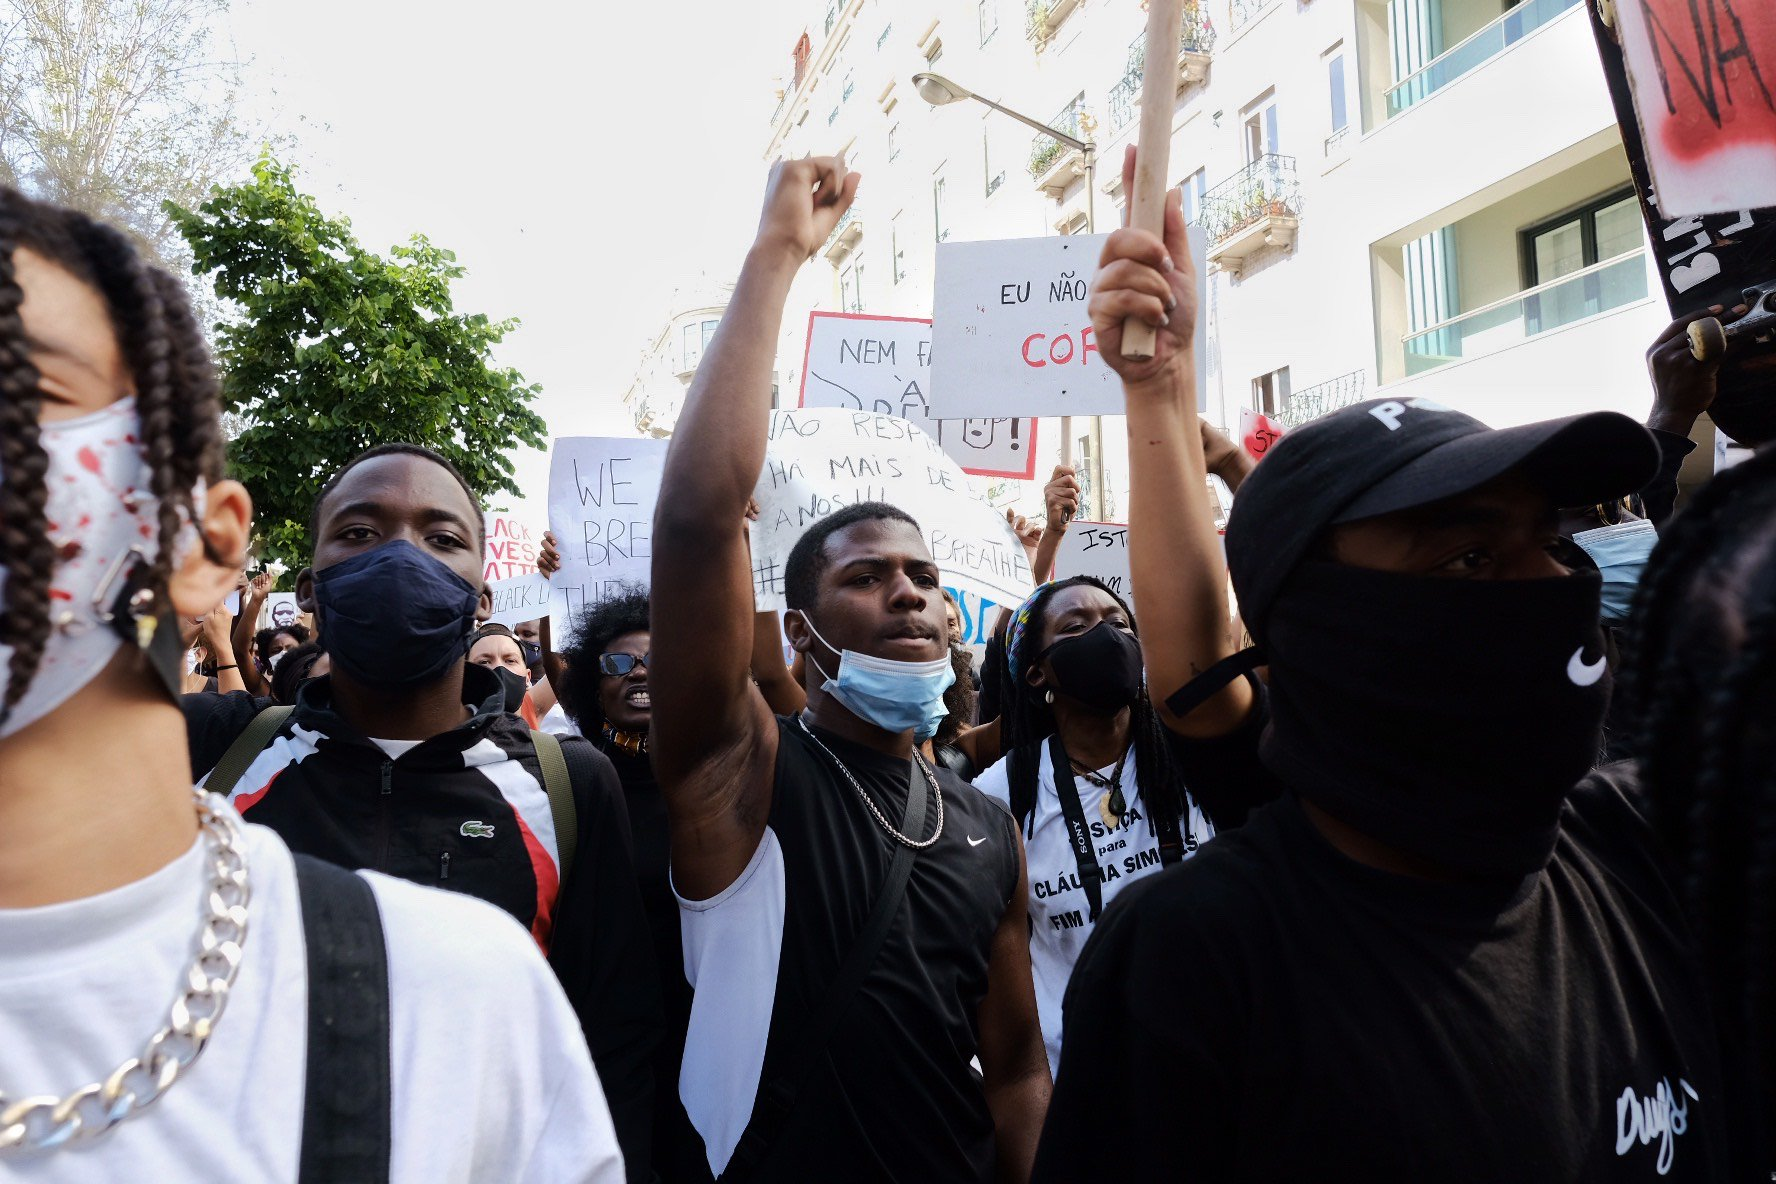mask_weared_incorrect: (770, 502, 966, 749)
with_mask: (305, 444, 498, 697)
